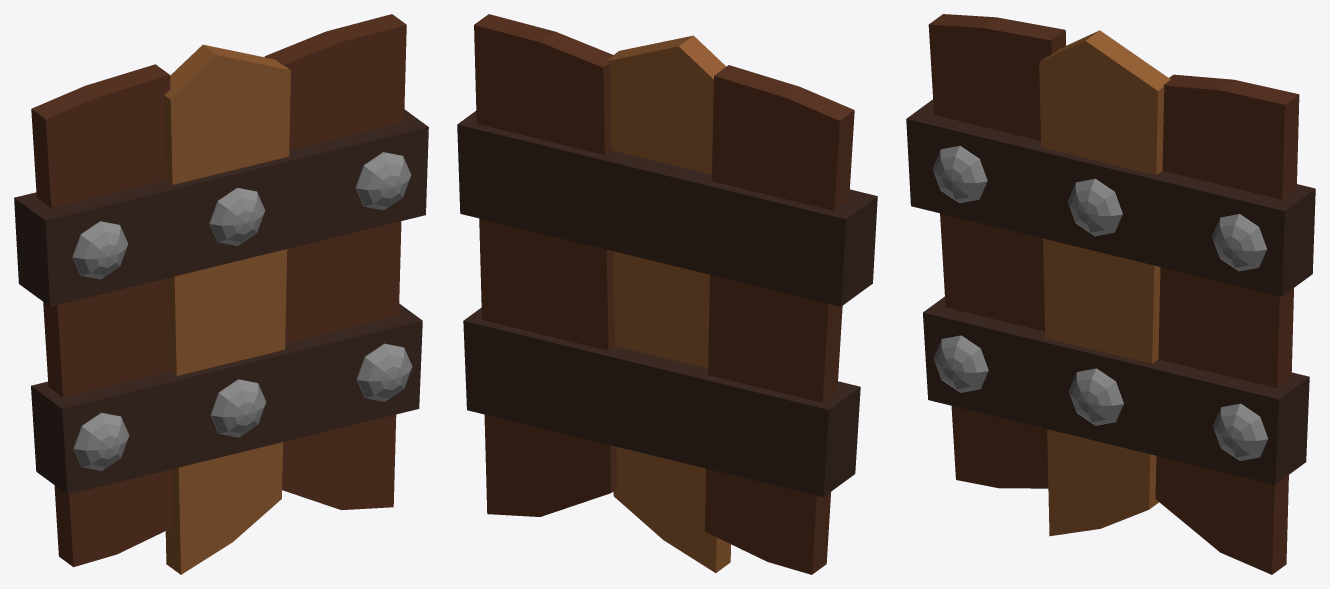
3 views of the same model, side by side, from view 1: azimuth 30°, elevation 25°; view 2: azimuth 150°, elevation 25°; view 3: azimuth 330°, elevation 25° (orthographic). The views are drawn at different scales.
Parts seen in each view (by area): view 1: Shield1; view 2: Shield1; view 3: Shield1.
Boxes of the visible parts, left/top/right/bottom form: Shield1: left=14, top=14, right=428, bottom=574; Shield1: left=457, top=14, right=877, bottom=574; Shield1: left=906, top=14, right=1315, bottom=574.
Bounding box in the file's own units: 49.41 × 8.96 × 62.89.
1 material, 1 textured.
